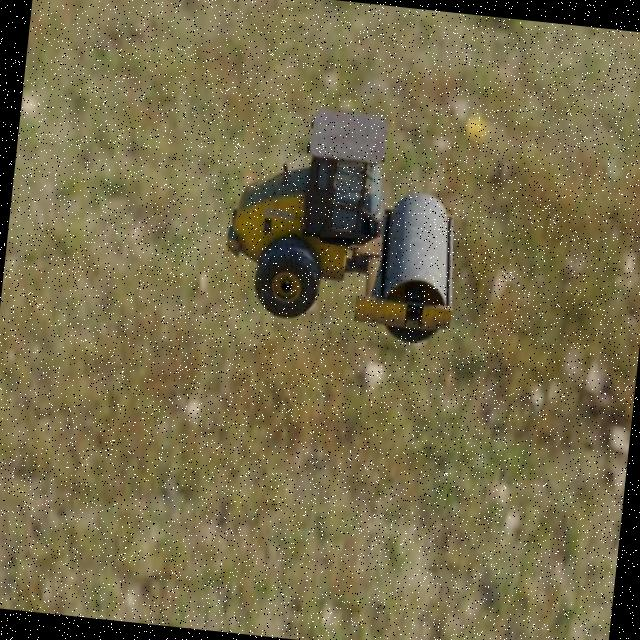Roller: (216, 100, 472, 346)
